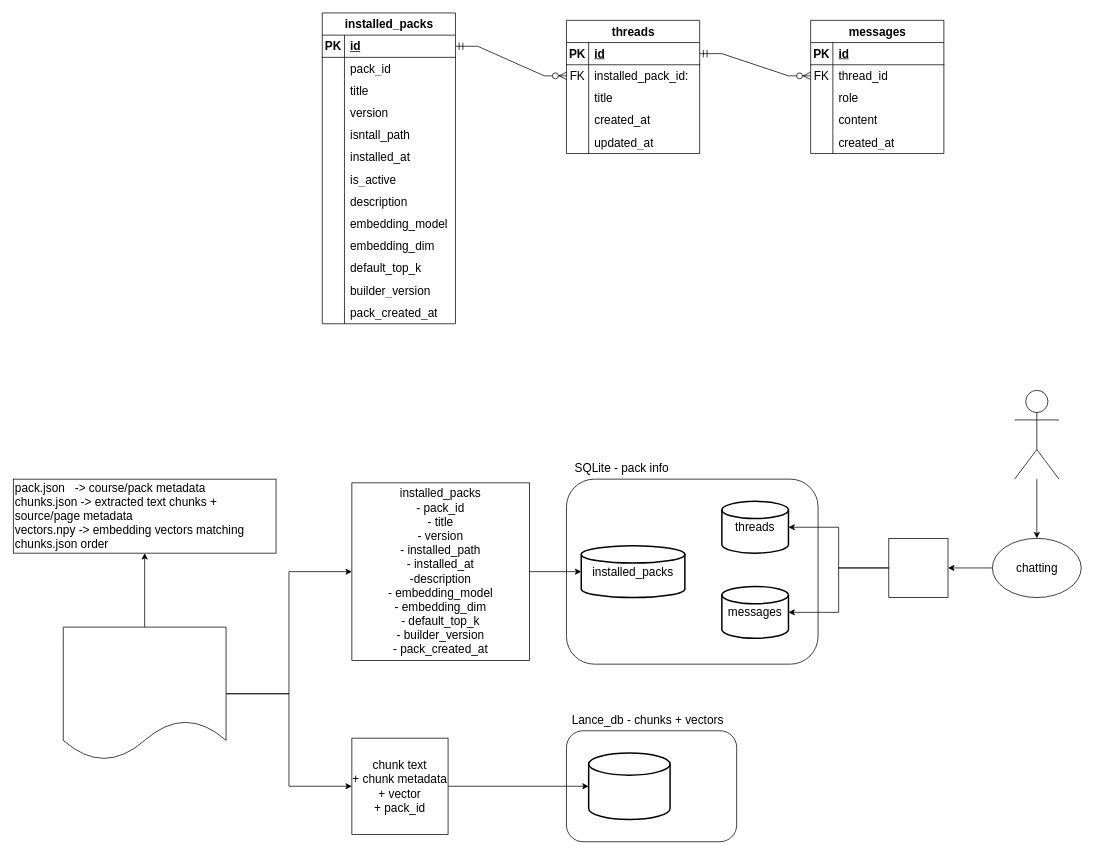
Some shapes in this 1094 by 855 pixel diagram are drawn without their labels. Each missing label, with the centre of its shape:
"pack.zip - pack.json - chunks.json - vectors.npy" goes at point (144, 693).
"pack_chunks" goes at point (629, 786).
"Student" goes at point (1036, 434).
"threads messeges" goes at point (918, 568).
